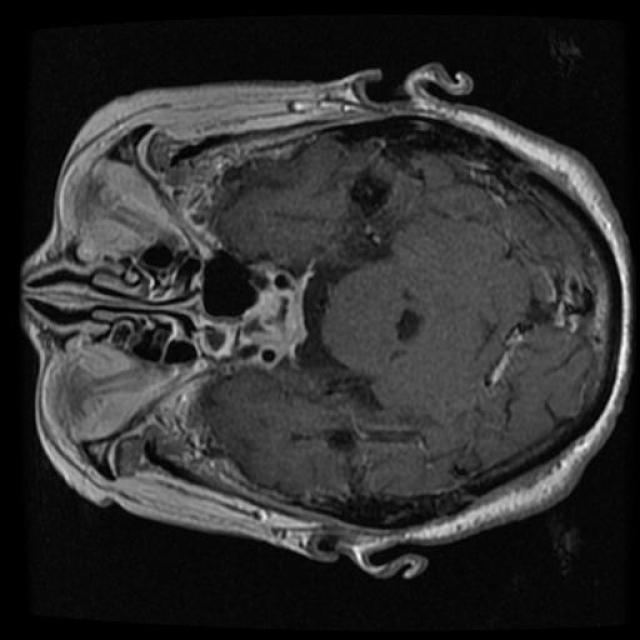Pituitary: (240, 268, 308, 370)
